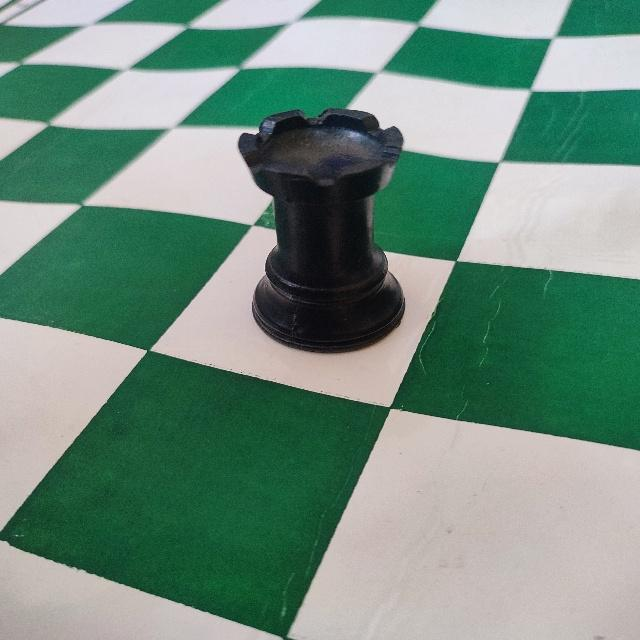Rook: (232, 104, 410, 356)
